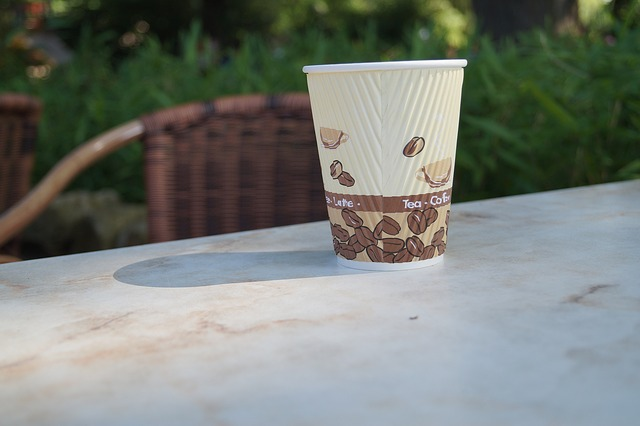cup: (294, 52, 477, 277)
